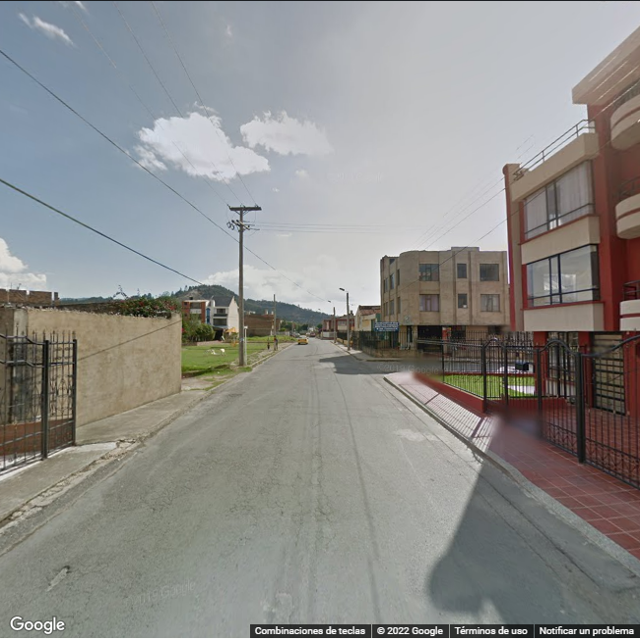D00: (288, 458, 304, 548), (318, 444, 333, 526)
D40: (51, 551, 74, 595)
